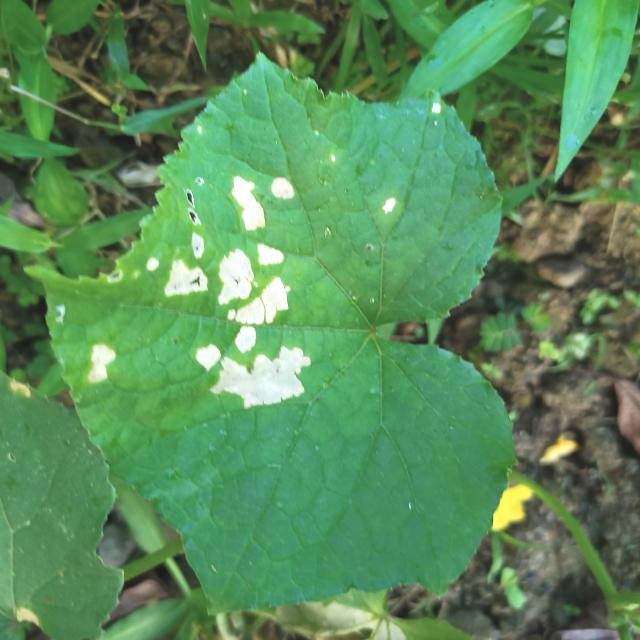disease_cucumber: (168, 159, 320, 413), (81, 334, 123, 386), (378, 194, 400, 214)
